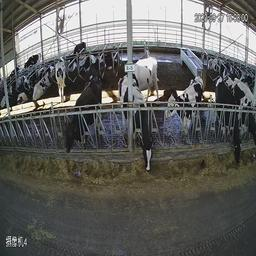cow: (118, 74, 154, 172), (63, 77, 103, 159), (109, 58, 154, 114), (214, 75, 242, 165), (225, 76, 255, 157), (167, 75, 203, 135), (85, 58, 103, 94), (33, 72, 53, 101), (97, 48, 121, 71), (55, 57, 67, 103), (69, 41, 86, 72), (17, 78, 32, 106), (23, 53, 43, 72)
